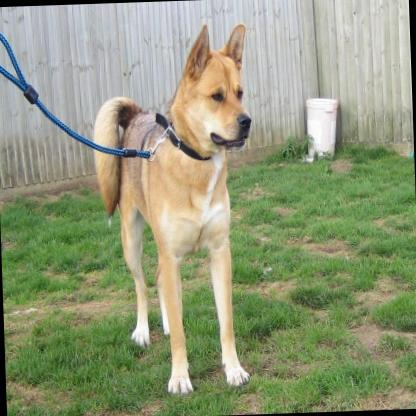kelpie: (88, 22, 264, 401)
